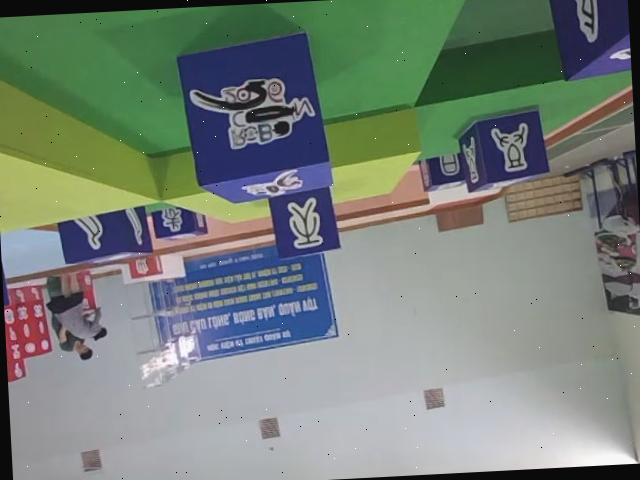R1 Blue: (180, 27, 338, 210)
R2 Fake Blue: (266, 184, 340, 260), (153, 204, 212, 241), (418, 151, 470, 191)
R2 Real Blue: (460, 105, 554, 192), (543, 0, 632, 80), (55, 202, 152, 265)
